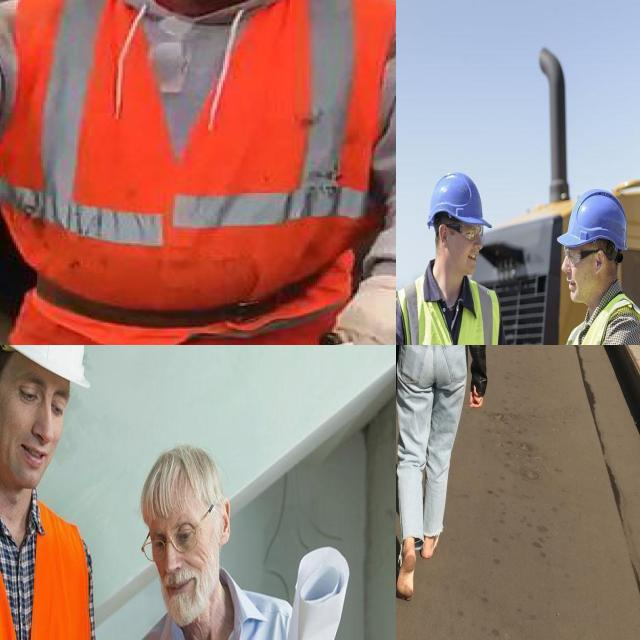Barefoots: (396, 549, 416, 601), (421, 534, 438, 558)
No_Ear-Protection: (216, 493, 234, 548), (437, 219, 450, 252), (595, 248, 605, 274)
face_nomask: (0, 355, 71, 496), (141, 516, 221, 627), (561, 247, 610, 310), (442, 214, 486, 273)
glasses: (139, 522, 204, 570), (560, 244, 586, 268), (459, 220, 486, 243)
hand_glove: (336, 264, 396, 345)
head_helmet: (559, 189, 631, 256), (0, 345, 97, 387), (428, 174, 489, 228)
head_nohelmet: (142, 449, 225, 509)
person: (0, 0, 396, 345), (111, 443, 351, 640), (0, 345, 112, 640), (398, 155, 499, 345), (555, 189, 640, 345)
vest: (26, 0, 388, 345), (0, 479, 96, 640), (396, 279, 509, 345)
